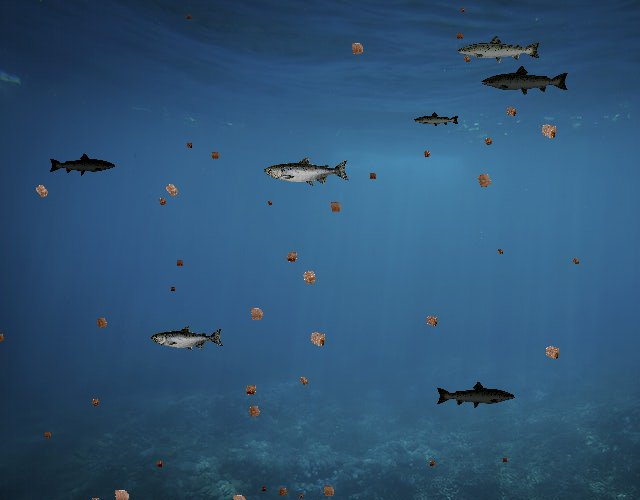Fish: (481, 64, 571, 97), (456, 34, 542, 65), (264, 156, 350, 187), (435, 380, 516, 409), (151, 326, 224, 352), (48, 152, 116, 177), (414, 111, 461, 128)
Pellet: (243, 301, 270, 328), (345, 36, 370, 61), (106, 482, 136, 500), (240, 379, 262, 401), (366, 169, 380, 183), (426, 457, 439, 470), (183, 140, 196, 153), (458, 4, 468, 14)
